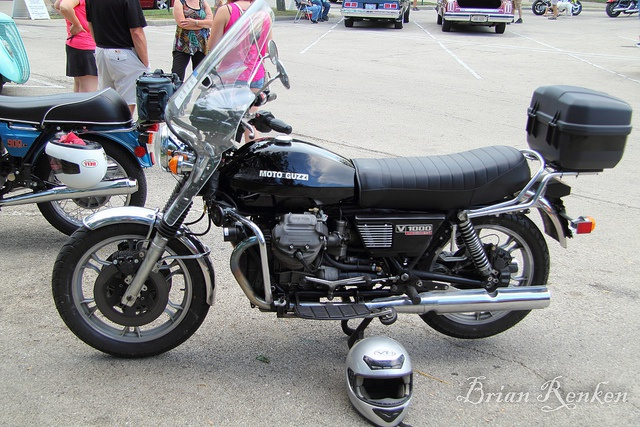non-vehicle: (51, 0, 632, 360), (0, 68, 183, 236), (532, 0, 582, 15), (605, 0, 639, 16)
